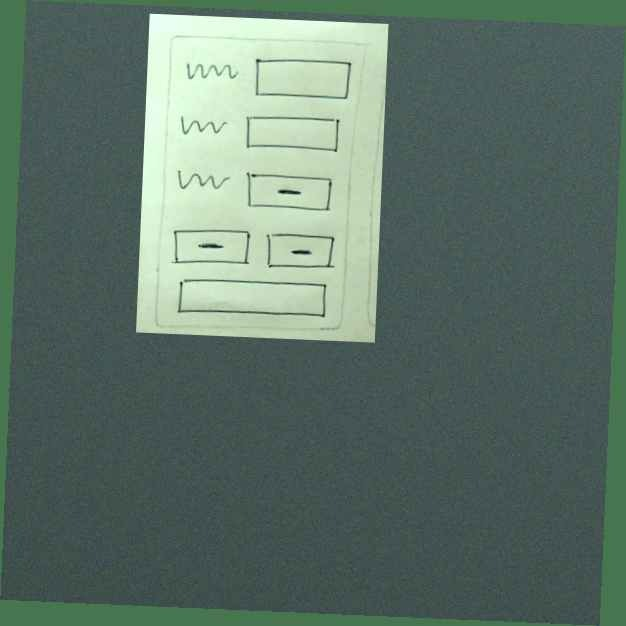button: (242, 167, 336, 215), (169, 225, 253, 269), (261, 229, 340, 273)
text: (170, 164, 236, 199), (178, 56, 245, 90), (171, 109, 238, 143)
text_input: (172, 274, 332, 324), (250, 53, 353, 104), (242, 108, 345, 158)
